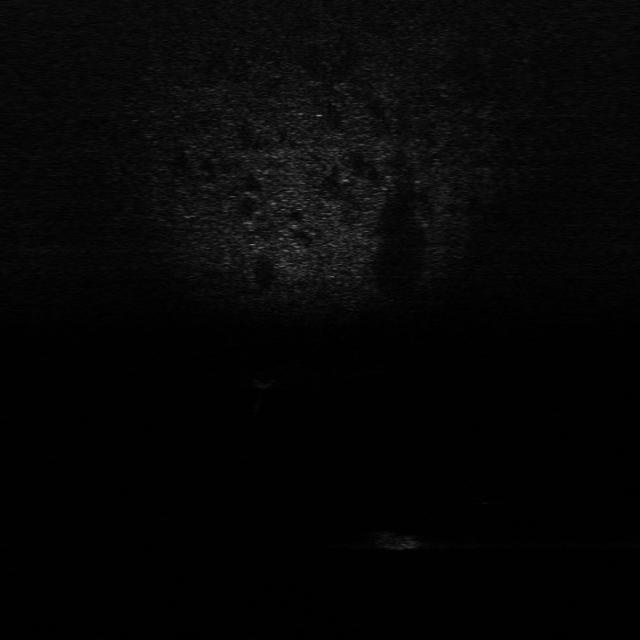ball: (249, 370, 277, 390)
metal bucket: (377, 525, 422, 553)
